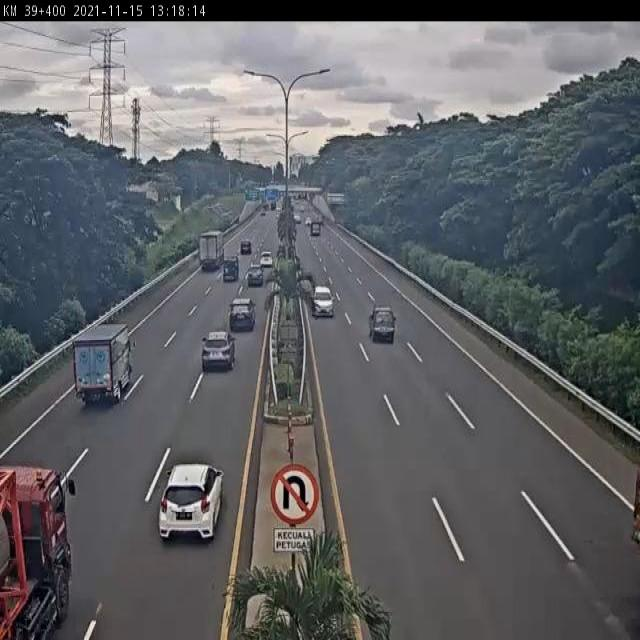Car: (156, 462, 224, 546), (202, 330, 236, 373), (229, 299, 257, 331), (311, 284, 335, 320), (248, 264, 264, 286), (258, 250, 274, 268)
Truck: (0, 462, 79, 640), (73, 322, 137, 406), (198, 230, 226, 270), (369, 305, 396, 343)
